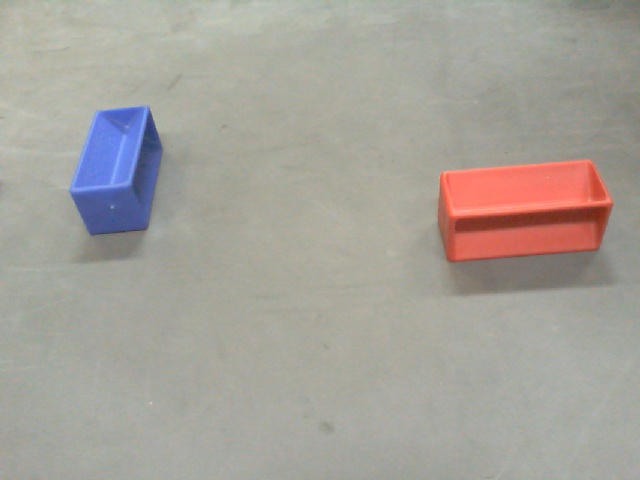BlueSample: (67, 101, 162, 235)
RedSample: (437, 158, 615, 265)
